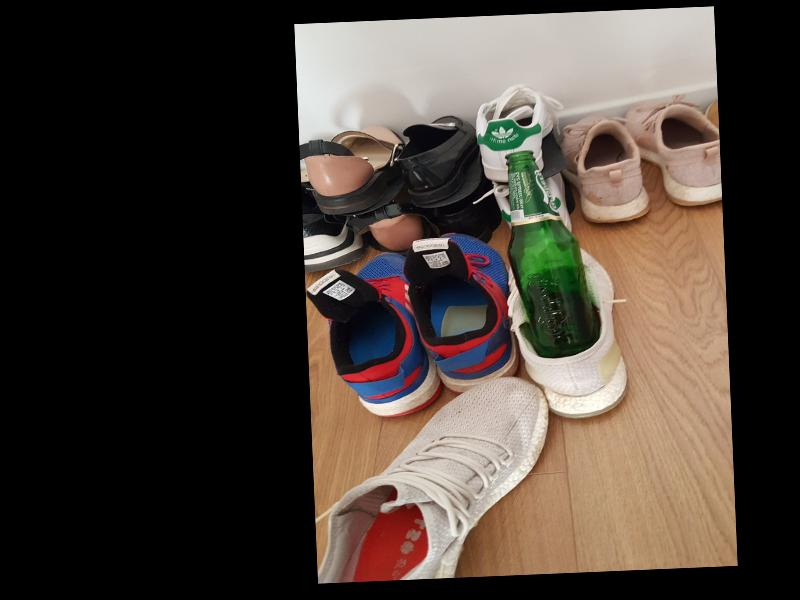Beer: (502, 150, 599, 358)
